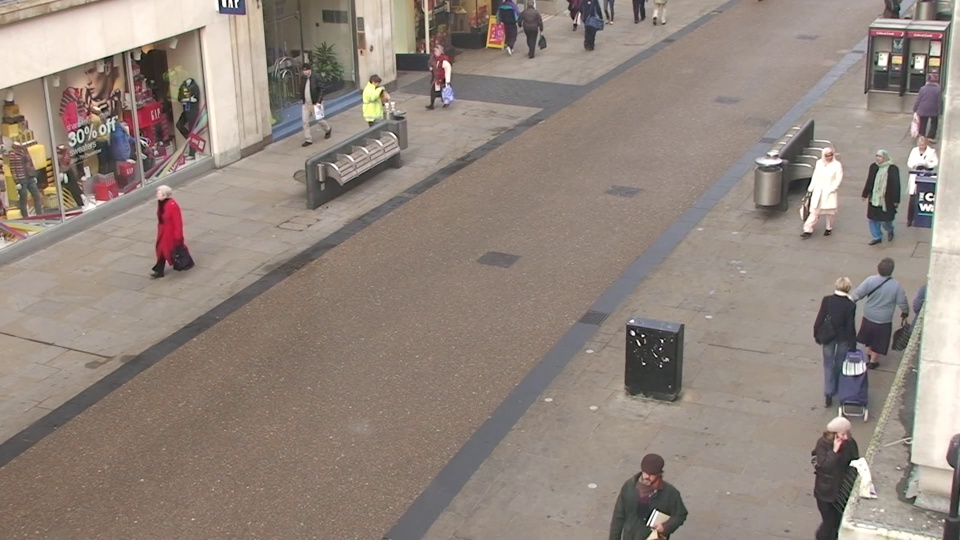pedestrian: (805, 406, 869, 540), (854, 253, 908, 387), (813, 269, 865, 406), (618, 448, 679, 540), (146, 180, 191, 290), (894, 133, 942, 236), (857, 146, 901, 252), (806, 143, 846, 247), (905, 69, 948, 158), (362, 71, 392, 154), (294, 60, 324, 138), (426, 42, 453, 117)
